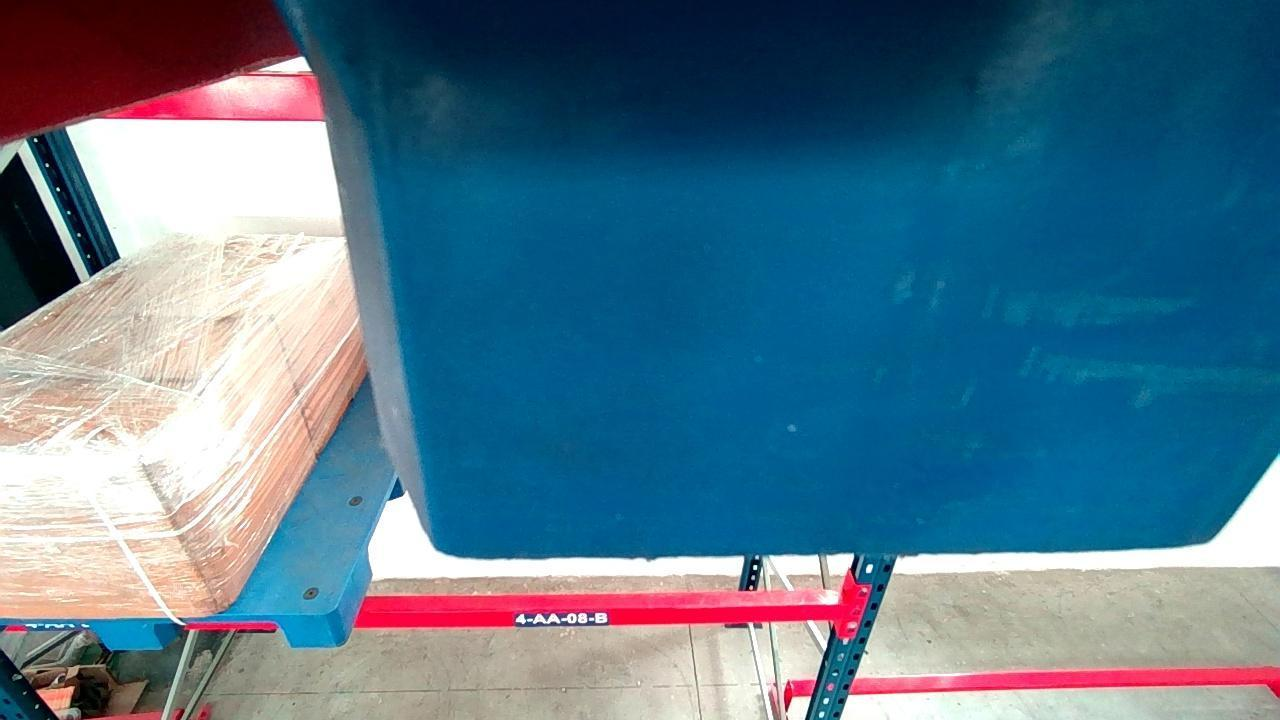h_rack: (355, 599, 858, 627), (94, 69, 326, 118)
small_pallet: (0, 607, 335, 652)
